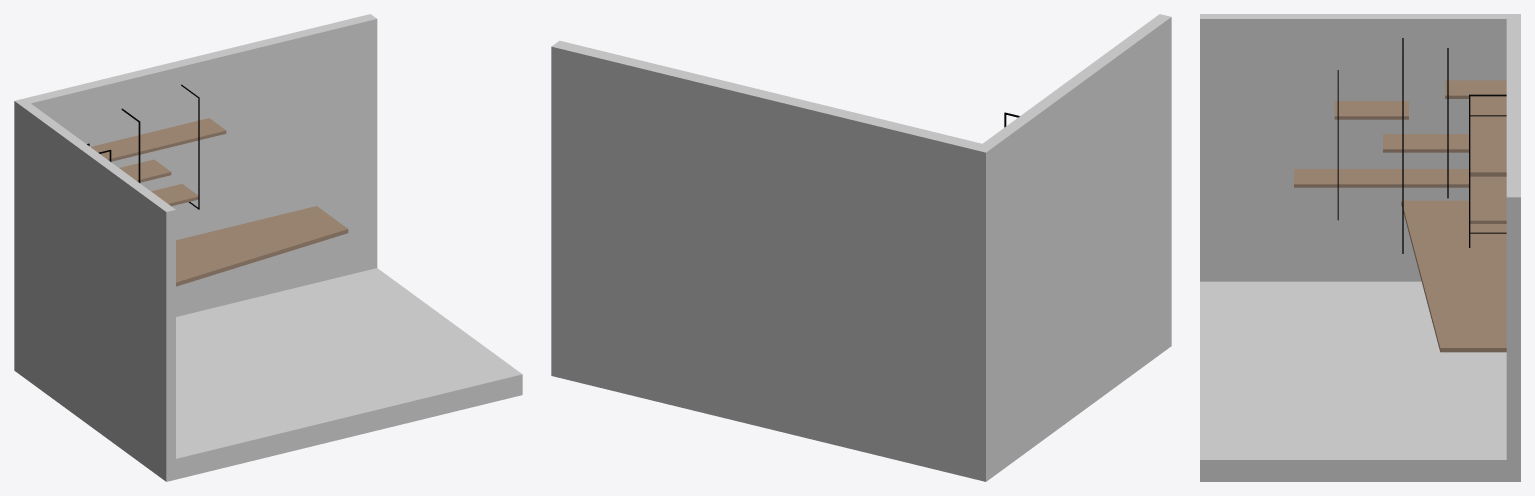
Rendered from Office table.fbx.
3 renders of one model, left to right at view 1: azimuth 30°, elevation 25°; view 2: azimuth 150°, elevation 25°; view 3: azimuth 270°, elevation 25°, orthographic. The views are drawn at different scales.
Parts seen in each view (by area): view 1: Group13, Group7, Union, Group5, Group6; view 2: Group13; view 3: Group13, Group7, Union, Group2, Group3, Group6, Group4, Group10, Group12.
Part boxes in pixels (x1=…): Group13: x1=14, y1=14, x2=522, y2=481; Group7: x1=176, y1=206, x2=348, y2=286; Union: x1=91, y1=118, x2=226, y2=161; Group5: x1=119, y1=159, x2=171, y2=182; Group6: x1=151, y1=184, x2=198, y2=206; Group13: x1=551, y1=14, x2=1171, y2=481; Group13: x1=1200, y1=14, x2=1520, y2=481; Group7: x1=1401, y1=200, x2=1506, y2=352; Union: x1=1445, y1=80, x2=1506, y2=175; Group2: x1=1294, y1=169, x2=1506, y2=187; Group3: x1=1383, y1=134, x2=1468, y2=152; Group6: x1=1470, y1=184, x2=1506, y2=223; Group4: x1=1334, y1=101, x2=1408, y2=119; Group10: x1=1402, y1=38, x2=1403, y2=253; Group12: x1=1469, y1=115, x2=1506, y2=233.
Size of the model in its own units: 3.59 by 2.6 by 2.65.
